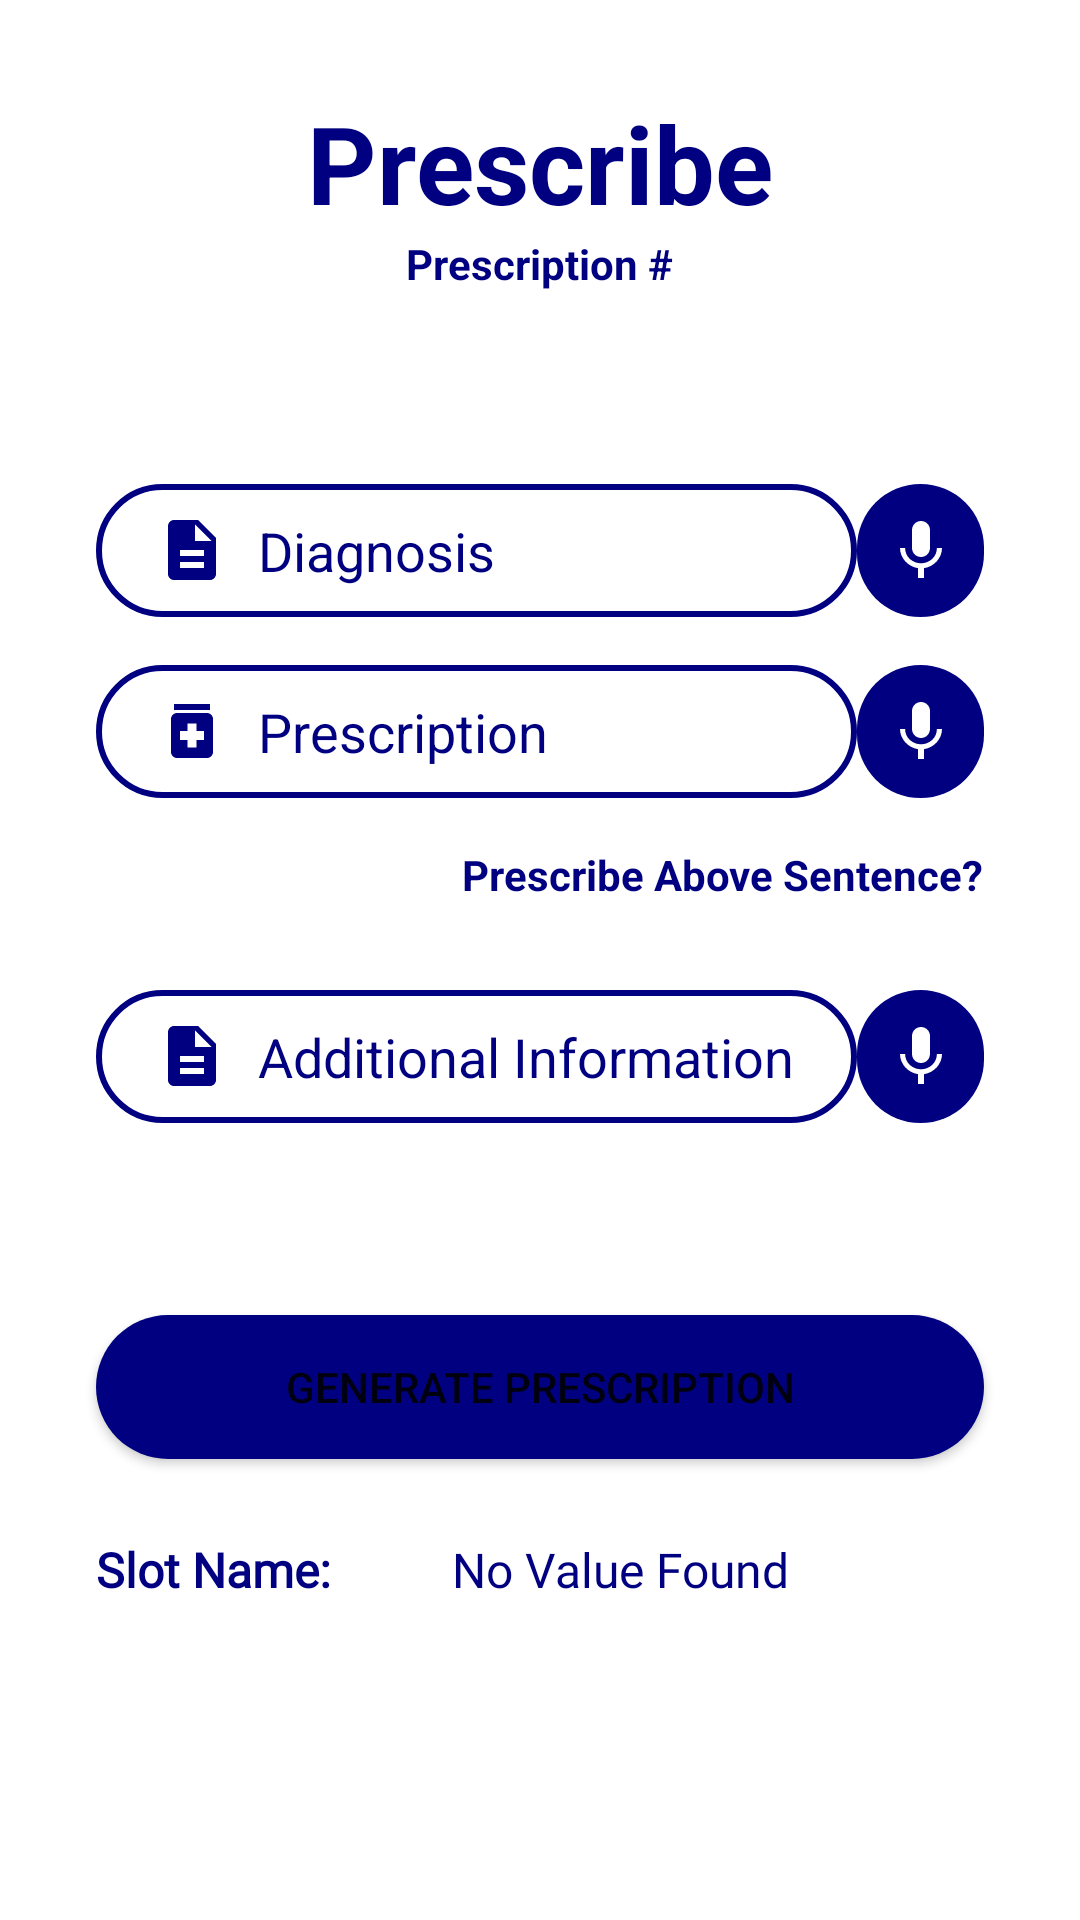

Named icons in this screenshot (1080*1920) and their bounding boxes, (x1, y1, x2, y2):
mic: (857, 484, 984, 617), (857, 665, 984, 798), (857, 990, 984, 1123)
